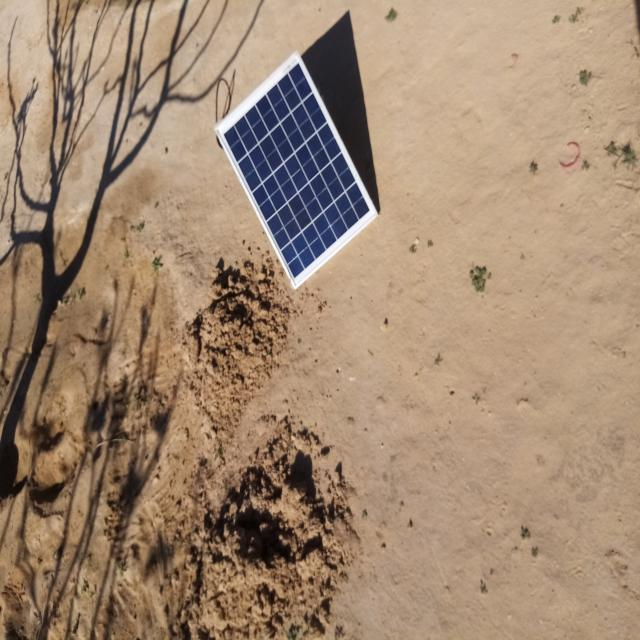Normal Solar Panel: (214, 52, 378, 289)
